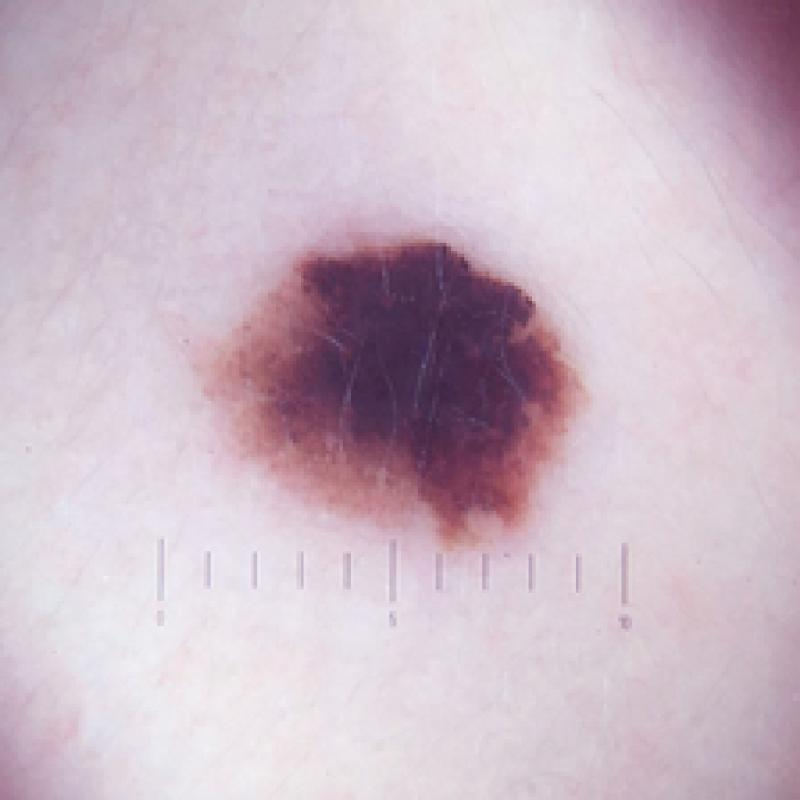benign: (150, 213, 651, 544)
